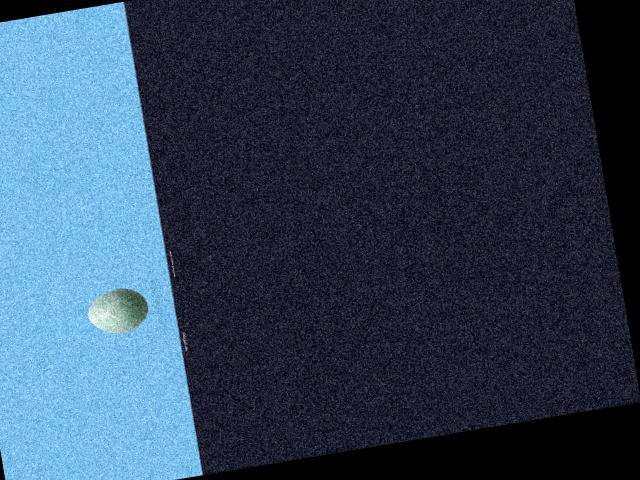egg: (84, 283, 150, 337)
